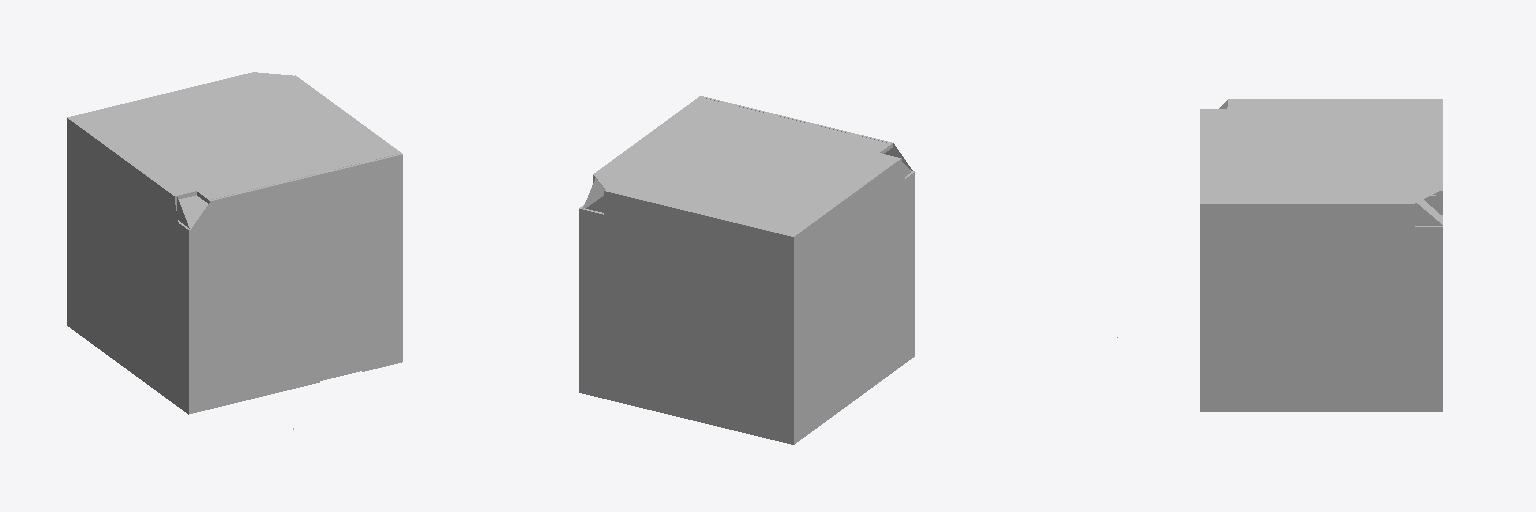
3 renders of one model, left to right at view 1: azimuth 30°, elevation 25°; view 2: azimuth 150°, elevation 25°; view 3: azimuth 270°, elevation 25°, orthographic.
Visible parts, largest first — view 1: group4_pasted__group1_pasted__pasted__group_pasted__pasted__past; view 2: group4_pasted__group1_pasted__pasted__group_pasted__pasted__past; view 3: group4_pasted__group1_pasted__pasted__group_pasted__pasted__past.
Boxes of the visible parts, box(x1,y1,x2,y2) form: group4_pasted__group1_pasted__pasted__group_pasted__pasted__past: box(67, 72, 402, 414); group4_pasted__group1_pasted__pasted__group_pasted__pasted__past: box(579, 96, 914, 444); group4_pasted__group1_pasted__pasted__group_pasted__pasted__past: box(1200, 99, 1442, 411).
Size of the model in its own units: 198 by 184 by 260.